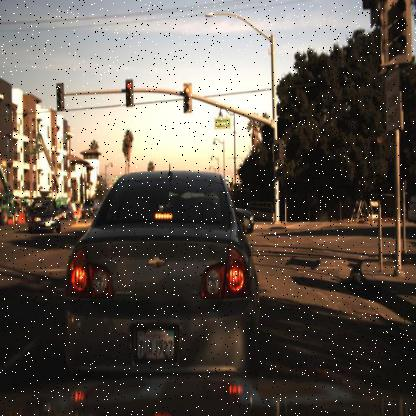car: (61, 167, 262, 410), (27, 194, 62, 235), (235, 197, 266, 241)
trafficLight: (380, 0, 415, 76), (182, 80, 192, 115), (54, 82, 65, 110)
trafficLight-Red: (273, 134, 284, 166), (124, 76, 134, 107)
